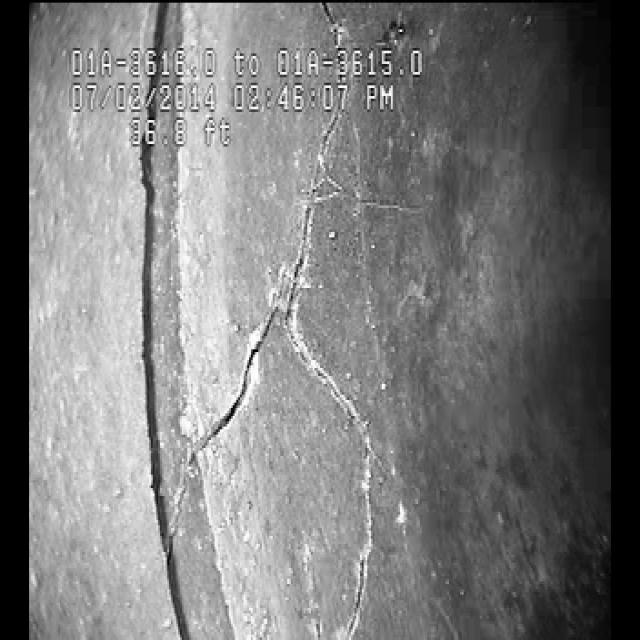Crack: (186, 197, 392, 596)
